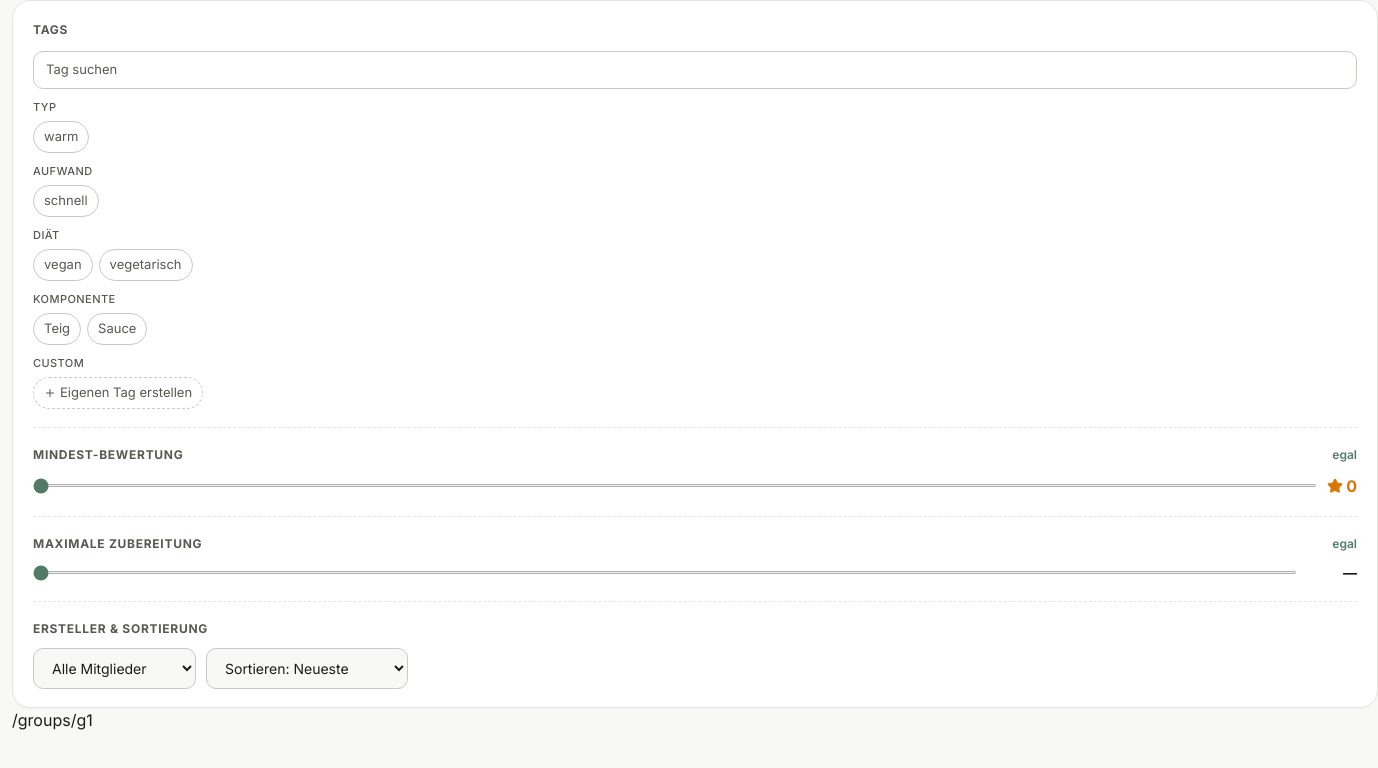
Scenario: RecipeFilterPanel › changing the sort select updates the URL
Select "Am besten bewertet" in the dropdown named "Sortierung" at (307, 668), box [206,648,408,688]
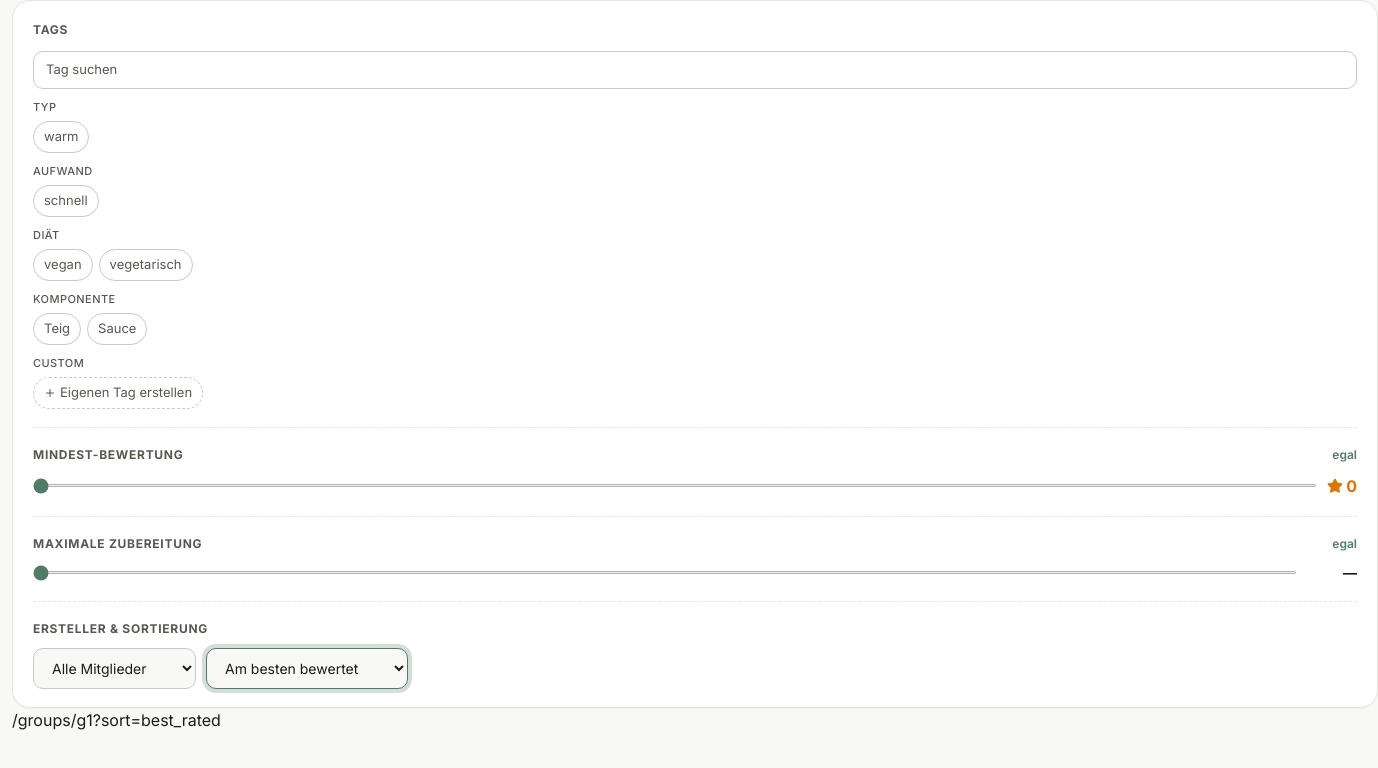
Check: the text with test id "location-probe" shows "sort=best_rated", box [93,710,221,730]
